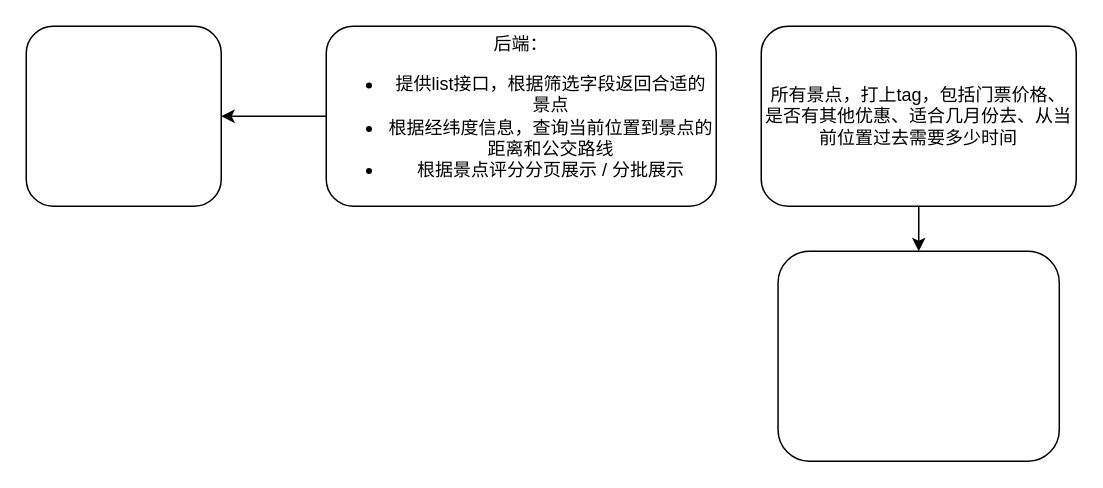
The diagram is 1103 pixels wide and 488 high, and some of its shapes have lost their labels. The shapes that lost their labels are listed below. From the top down, each one's centre as x and y in pixels, then its label:
At (x=123, y=115): "前端".
At (x=918, y=355): "字段： 门票价格 经纬度 优惠情况 月份 景点类型（室外/室内/） 大众评分".
